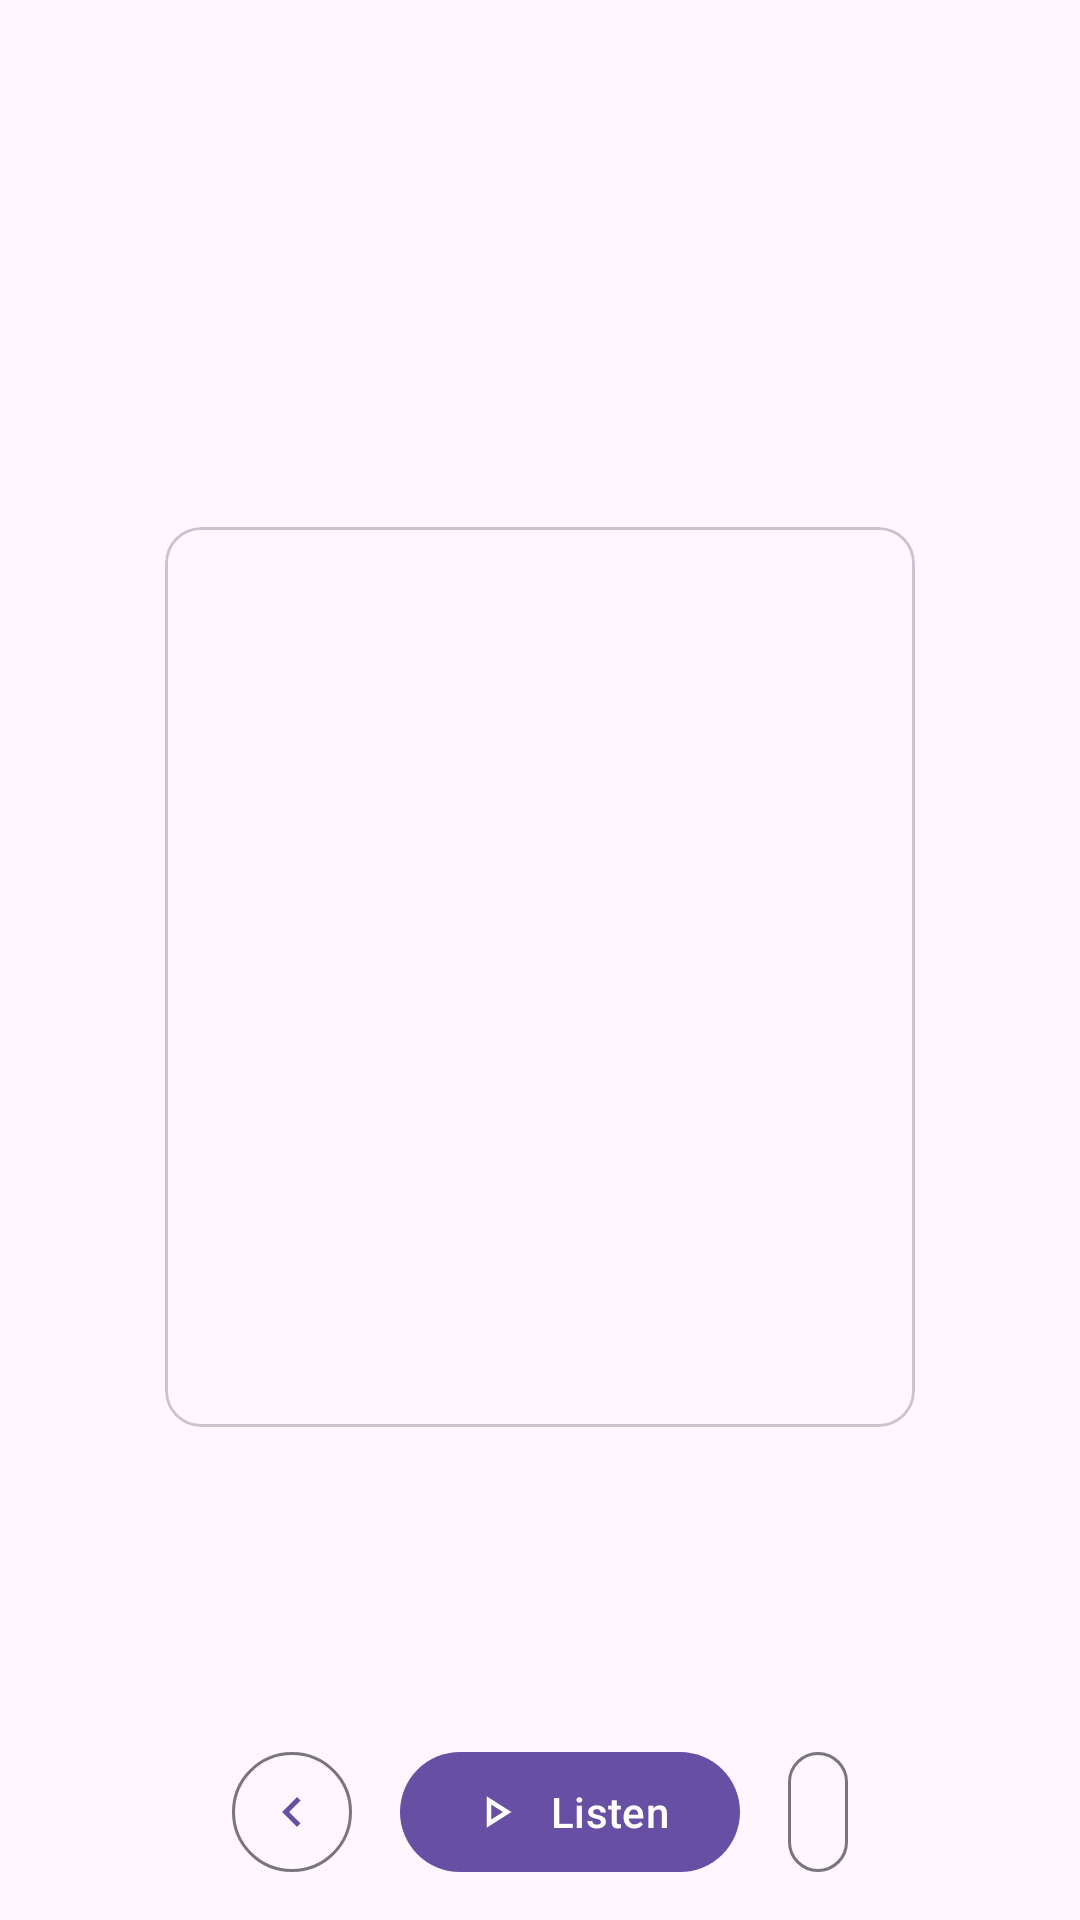

Where icons sit on this 1080w x 1920h app screen, as (x1, y1, x2, y2):
previous: (232, 1752, 352, 1872)
